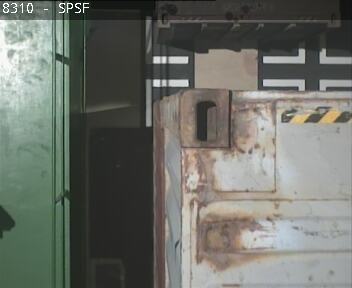groundmarker_1: (145, 15, 189, 127), (262, 32, 351, 63)
